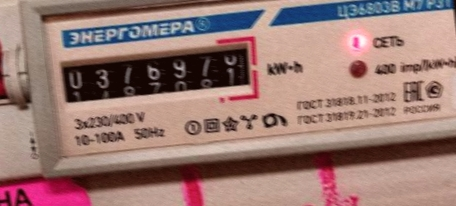0: (64, 65, 81, 89)
1: (222, 64, 236, 86)
3: (92, 66, 109, 88)
6: (143, 56, 160, 80)
7: (117, 60, 135, 85), (195, 52, 212, 77)
9: (169, 55, 185, 78)
screen: (48, 23, 265, 124)
